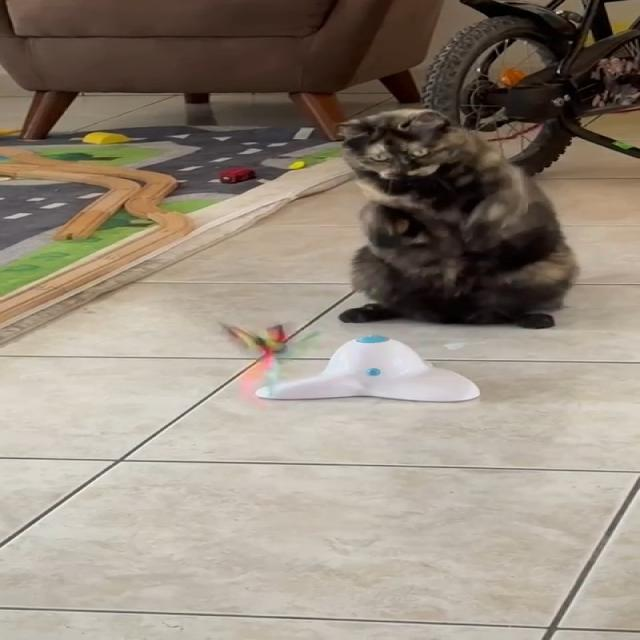authorized: (333, 107, 579, 329)
